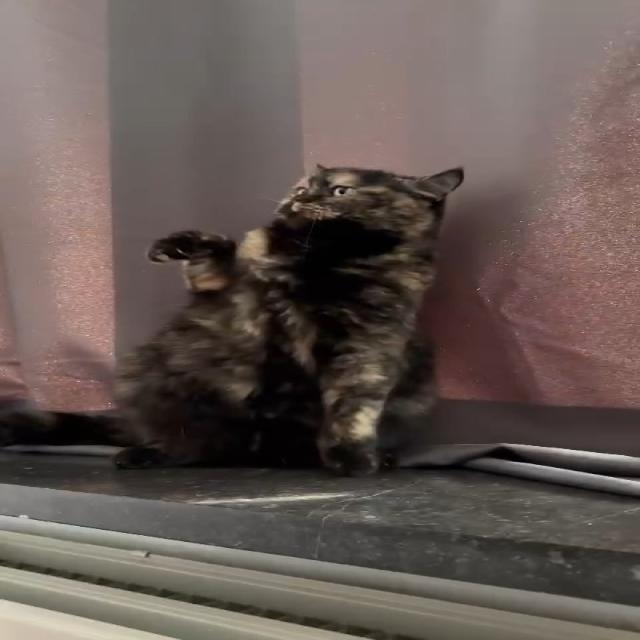authorized: (2, 161, 466, 477)
